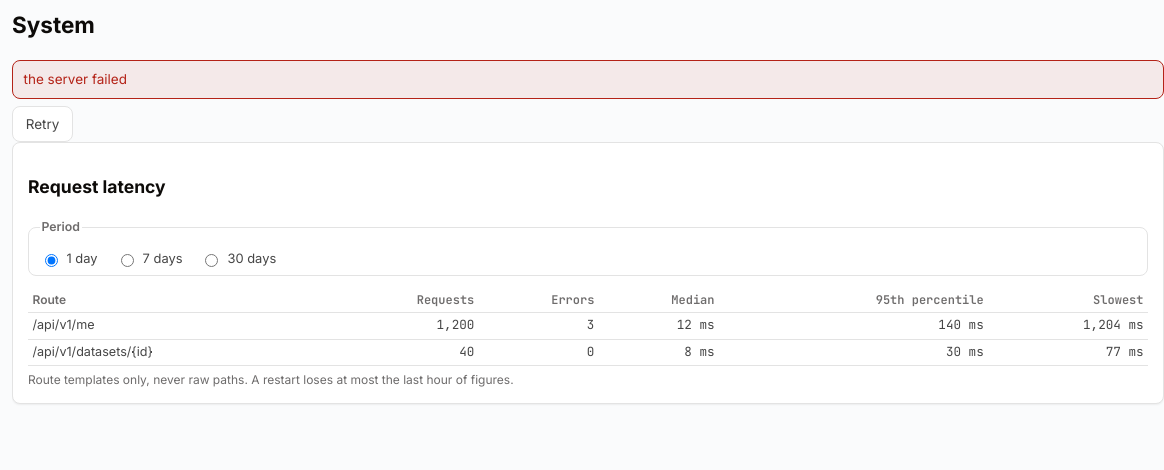
Scenario: SystemPage › shows an error with a Retry that fetches the system figures again
The image size is (1164, 470).
Expected: the message reads "the server failed", [24,71,127,87]
Expected: the table named "Request latency by route" is shown, [28,288,1148,366]
Click the button "Retry" at (43, 124), box [12,106,73,142]
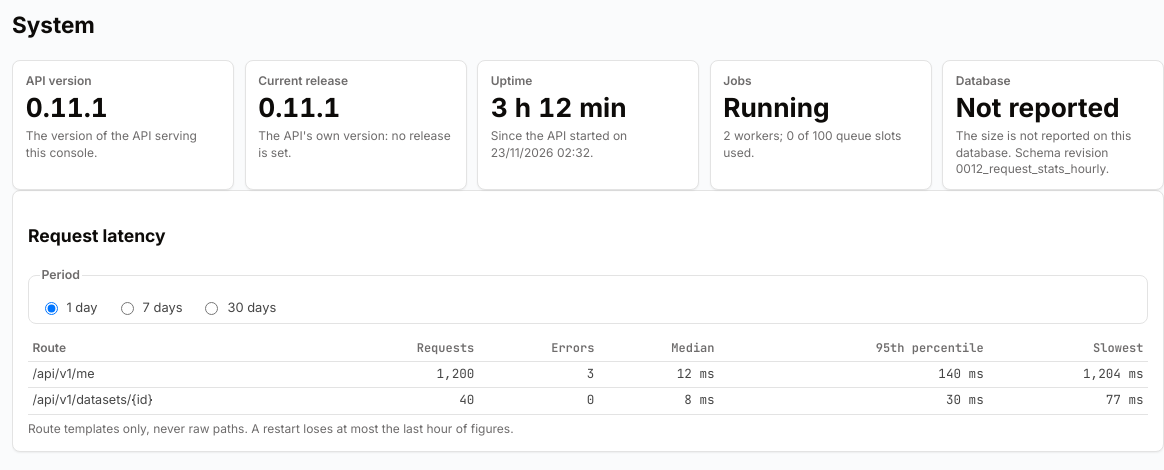
Expected: the element "API version" is shown, [12,60,234,190]
Expected: the button "Retry" is gone
